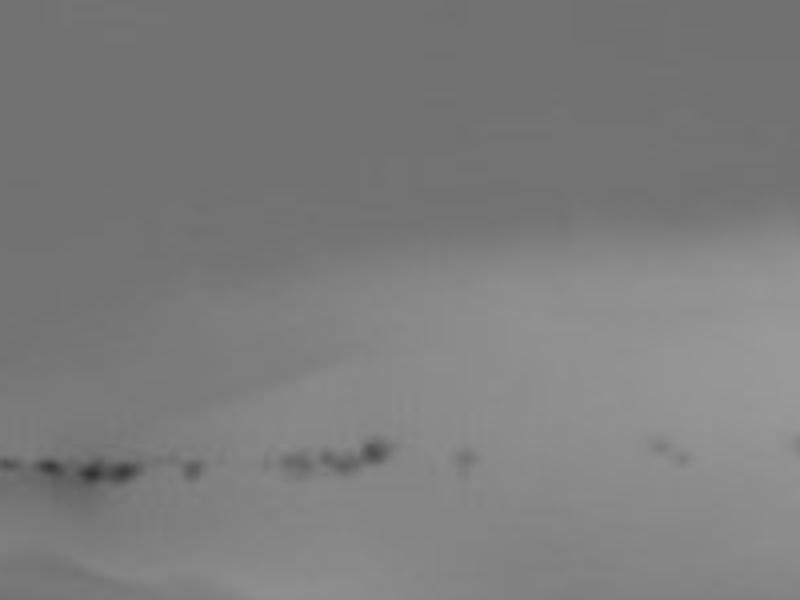defect: (277, 445, 312, 478), (360, 436, 392, 463), (450, 445, 476, 478), (109, 460, 139, 481), (78, 459, 104, 483), (329, 455, 357, 476), (35, 457, 63, 477), (670, 445, 692, 469), (181, 459, 201, 480), (1, 455, 20, 471), (647, 434, 667, 449), (789, 424, 800, 451), (316, 447, 332, 463)
